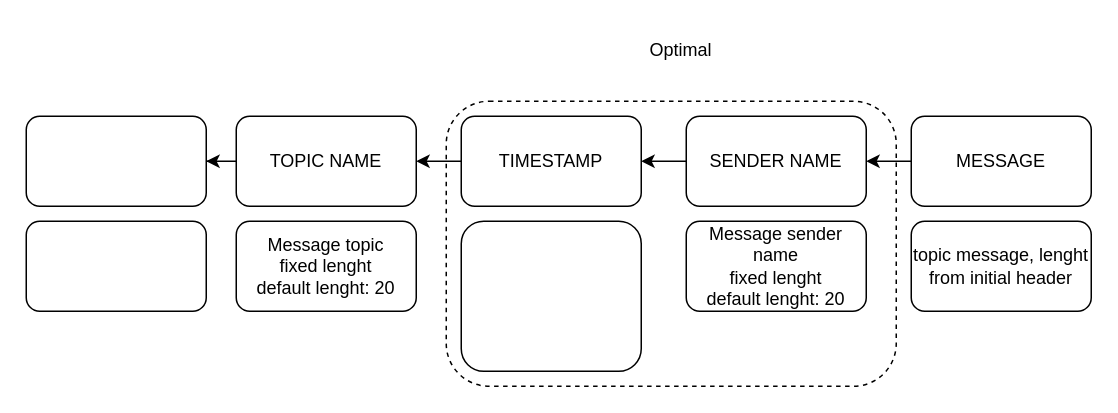
Some shapes in this 1118 by 413 pixel diagram are drawn without their labels. Here are the shapes that lost their labels. From the top down, the centre of each, then its label:
(x=115, y=160): HEADER
(x=115, y=265): Lenght of message fixed lenght default lenght: 10
(x=550, y=295): timestamp from when message were produced, fixed lenght default lenght: 20
